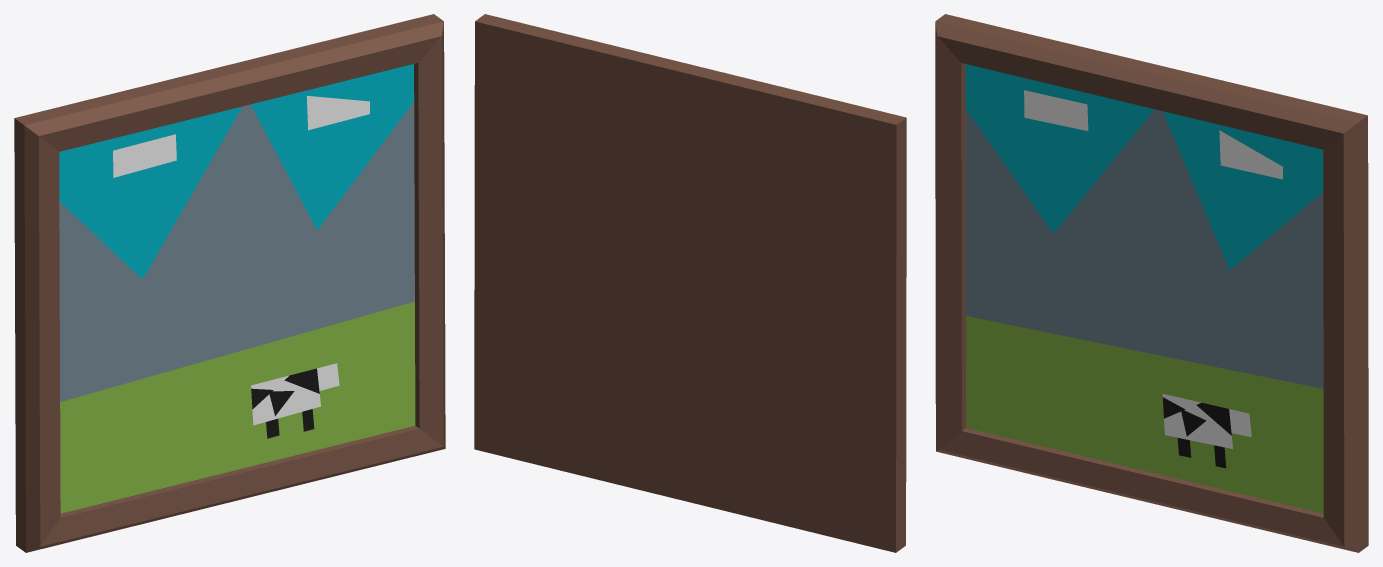
Rendered from Grazing Cow.fbx.
The picture shows the model from 3 angles, left to right: view 1: azimuth 30°, elevation 25°; view 2: azimuth 150°, elevation 25°; view 3: azimuth 330°, elevation 25°; orthographic projection.
Visible parts, largest first — view 1: group1788839726; view 2: group1788839726; view 3: group1788839726.
Part boxes in pixels (<box>): group1788839726: <box>14,14,445,552</box>; group1788839726: <box>474,14,906,552</box>; group1788839726: <box>935,14,1368,552</box>.
Size of the model in its own units: 55.62 by 54.08 by 3.9.
